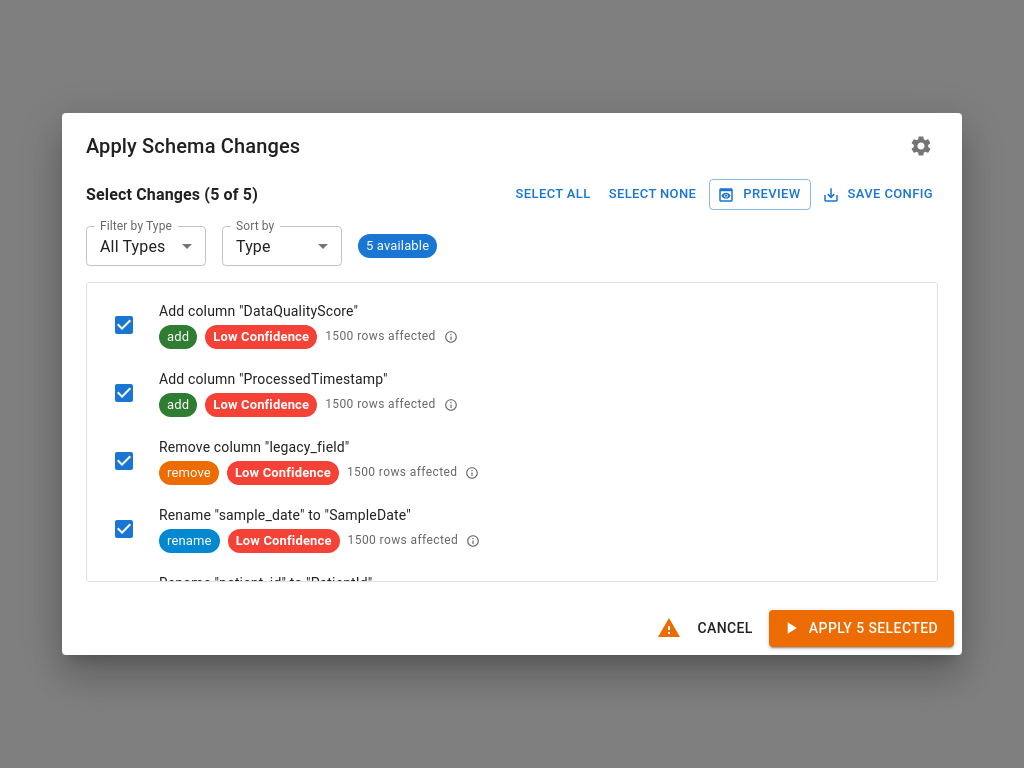
Bulk Operations End-to-End Workflow › Advanced Execution Modes › should handle strict validation mode
// Verify strict validation settings are available
Step 1. Click the button named "Advanced settings" → coordinates (921, 146), box x1=904 y1=129 x2=938 y2=163
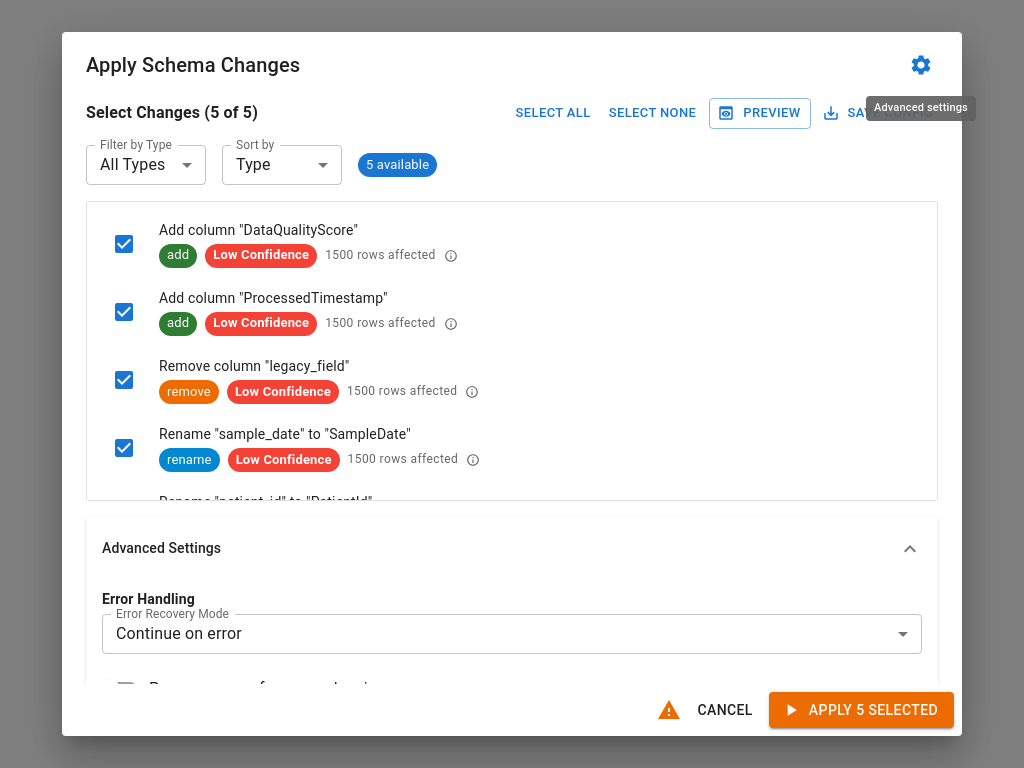
Expected: the button "Apply 5 Selected" is shown, x1=769 y1=692 x2=954 y2=728
Expected: the heading "Advanced Settings" is shown, x1=102 y1=538 x2=221 y2=560
